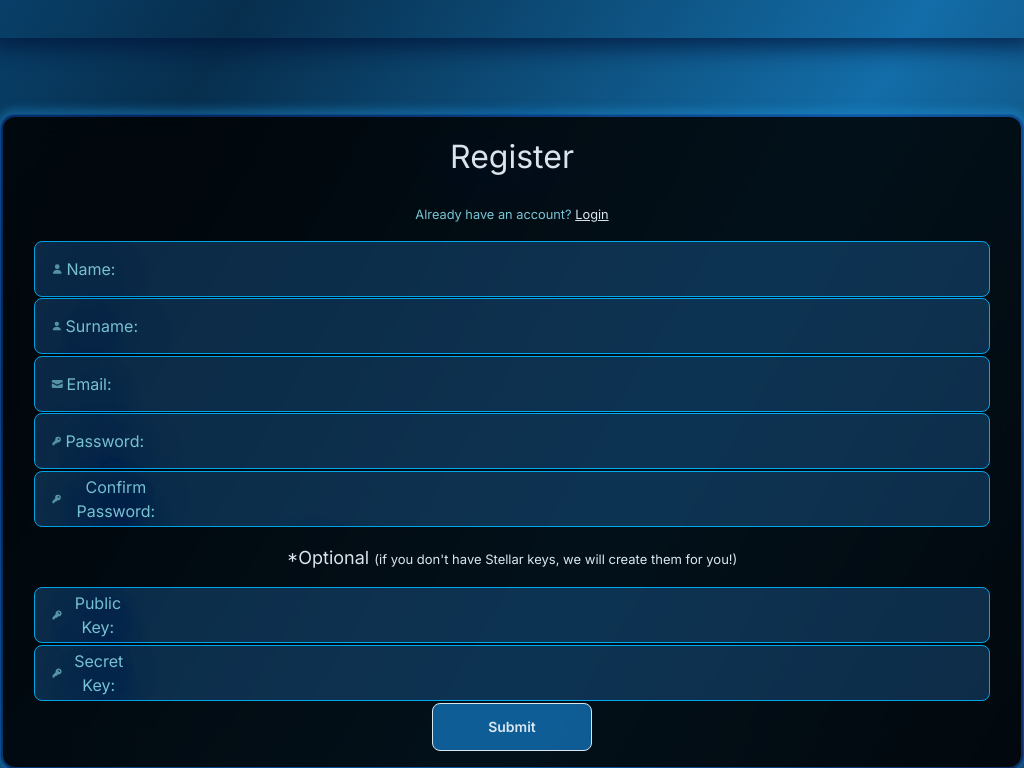
Test case: Signup page › Form validation › Email field › should display an error message when the email is invalid
(page scrolled)
Type "mail.com" into the field with test id "email-input". click: (234, 384)
box: [115,356,352,412]
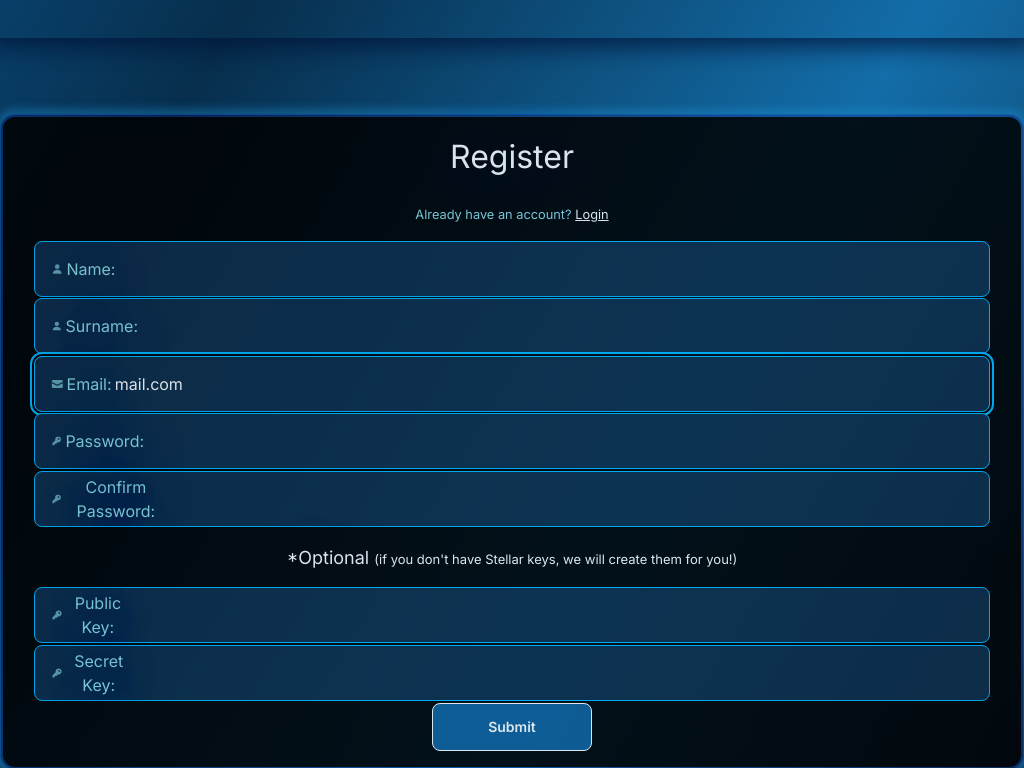
Leave the field with test id "email-input", box [115,356,352,412]
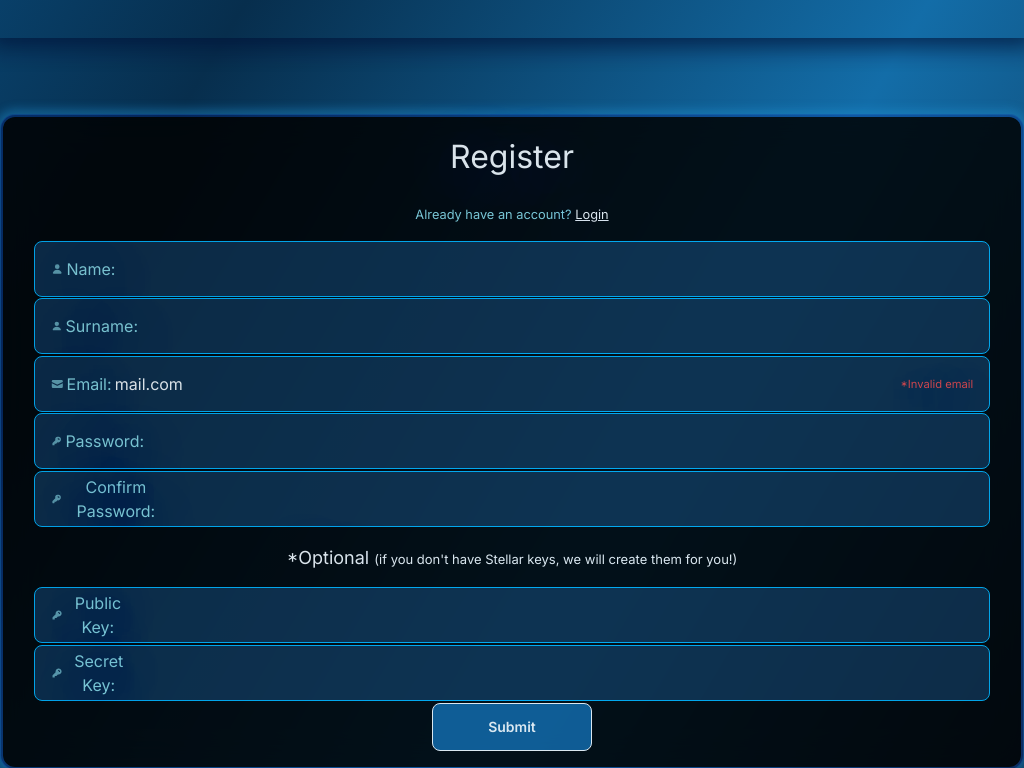
Result: the text "*Invalid email" is shown at [901,377,973,391]
Result: the text with test id "email-error" reads "*Invalid email" at [901,377,974,391]
